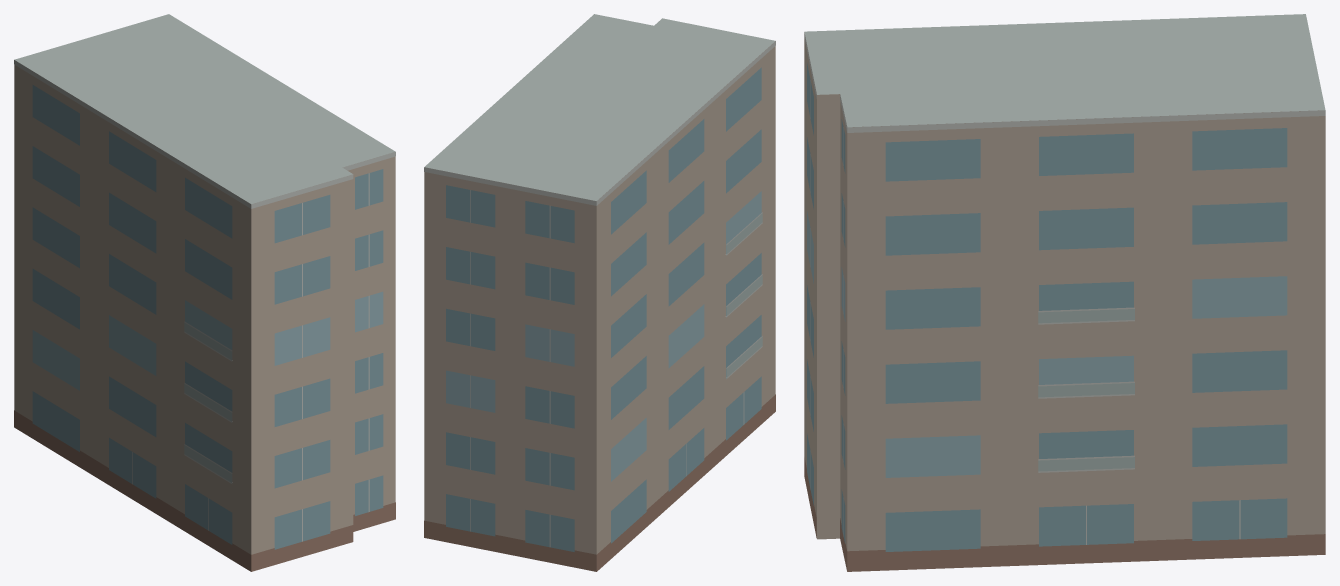
The model's file is survey-upis-32898586.glb.
The picture shows the model from 3 angles, left to right: view 1: azimuth 30°, elevation 25°; view 2: azimuth 150°, elevation 25°; view 3: azimuth 270°, elevation 25°; orthographic projection. The views are drawn at different scales.
Parts seen in each view (by area): view 1: survey-upis-32898586.tmp; view 2: survey-upis-32898586.tmp; view 3: survey-upis-32898586.tmp.
Boxes of the visible parts, x1,y1,x2,y2 form: survey-upis-32898586.tmp: (14, 14, 395, 571); survey-upis-32898586.tmp: (424, 14, 775, 571); survey-upis-32898586.tmp: (804, 14, 1325, 571).
Bounding box in the file's own units: 10.34 × 18.9 × 20.09.
